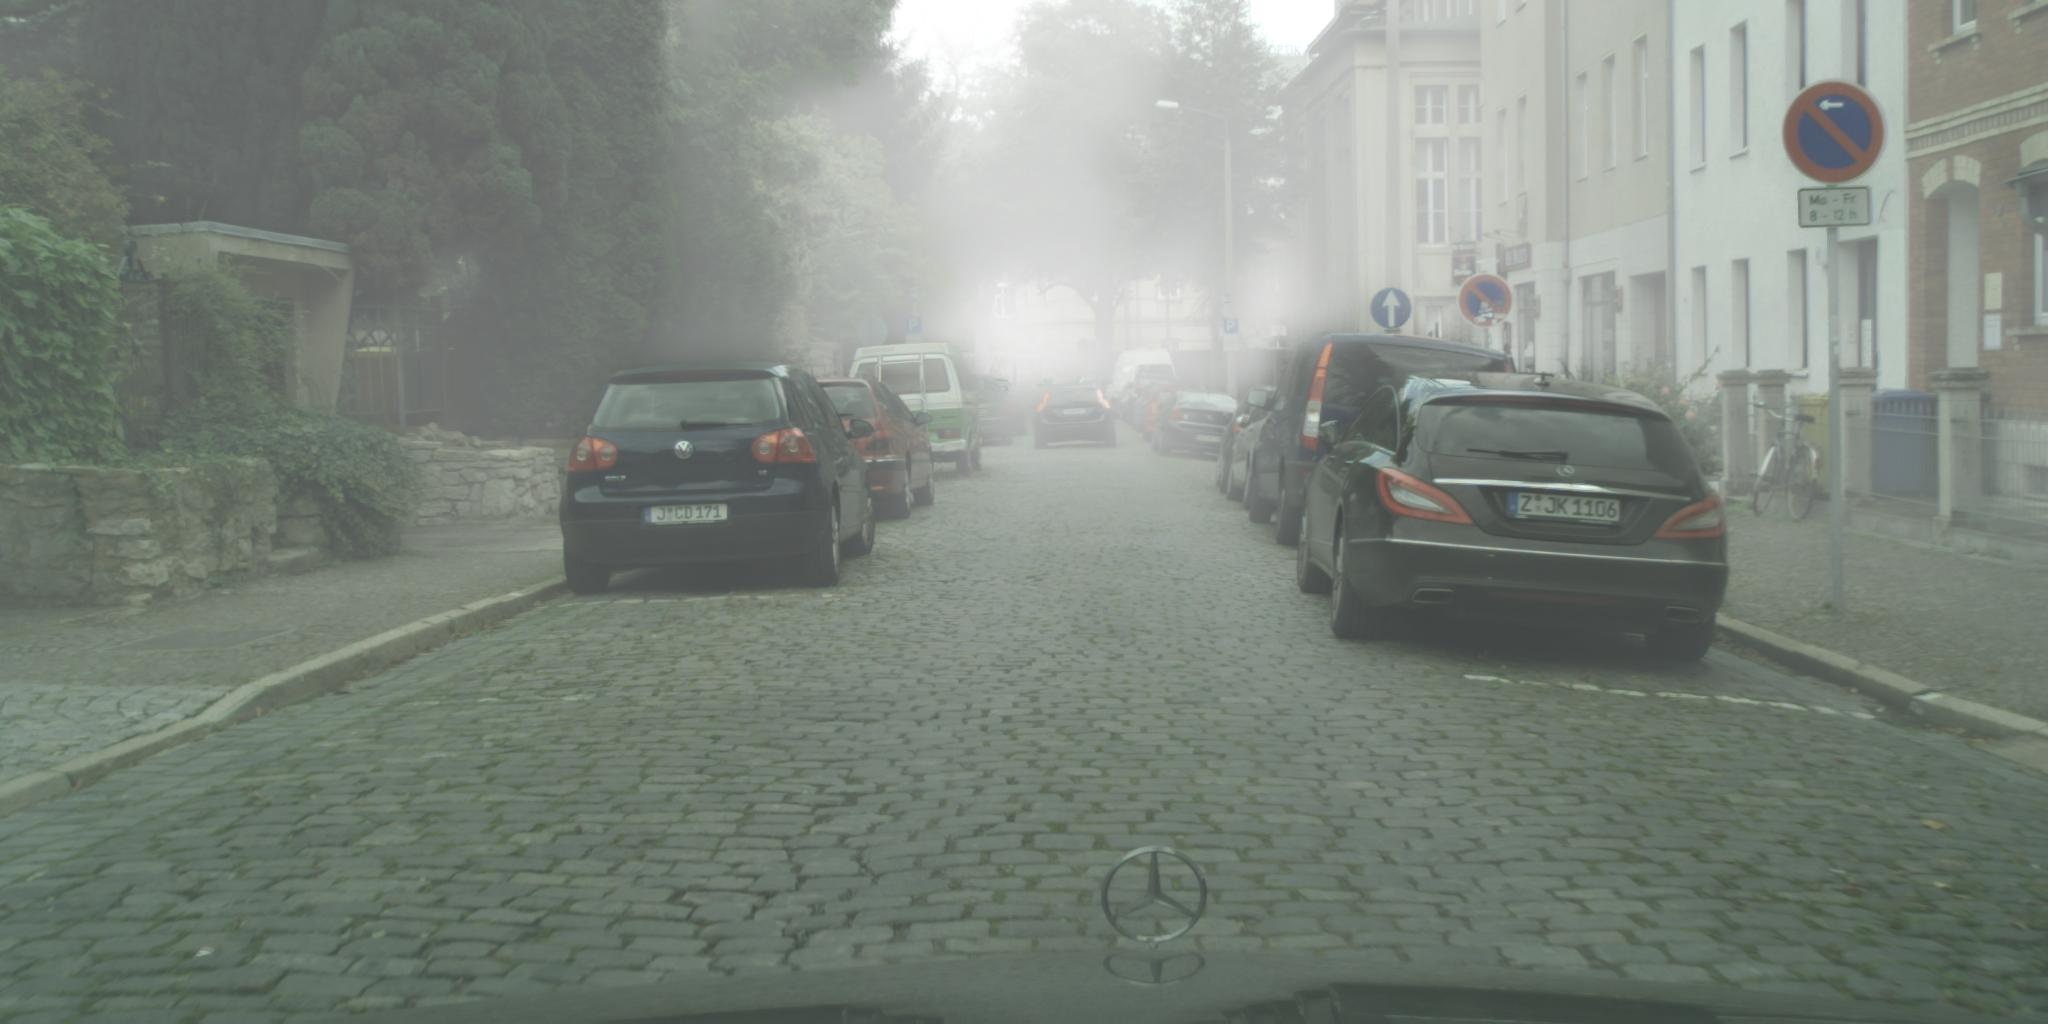bicycle: (1750, 404, 1823, 522)
car: (1297, 374, 1731, 662), (562, 363, 876, 597), (1247, 332, 1518, 549), (848, 344, 987, 481), (812, 374, 936, 521), (1226, 389, 1293, 512), (1215, 387, 1281, 498), (1151, 389, 1242, 458), (1029, 383, 1121, 451), (1105, 347, 1178, 421), (1121, 374, 1185, 427), (967, 383, 1015, 447), (1143, 388, 1192, 445), (1132, 384, 1189, 434), (1028, 377, 1080, 411), (998, 387, 1028, 438), (1075, 376, 1121, 404)
